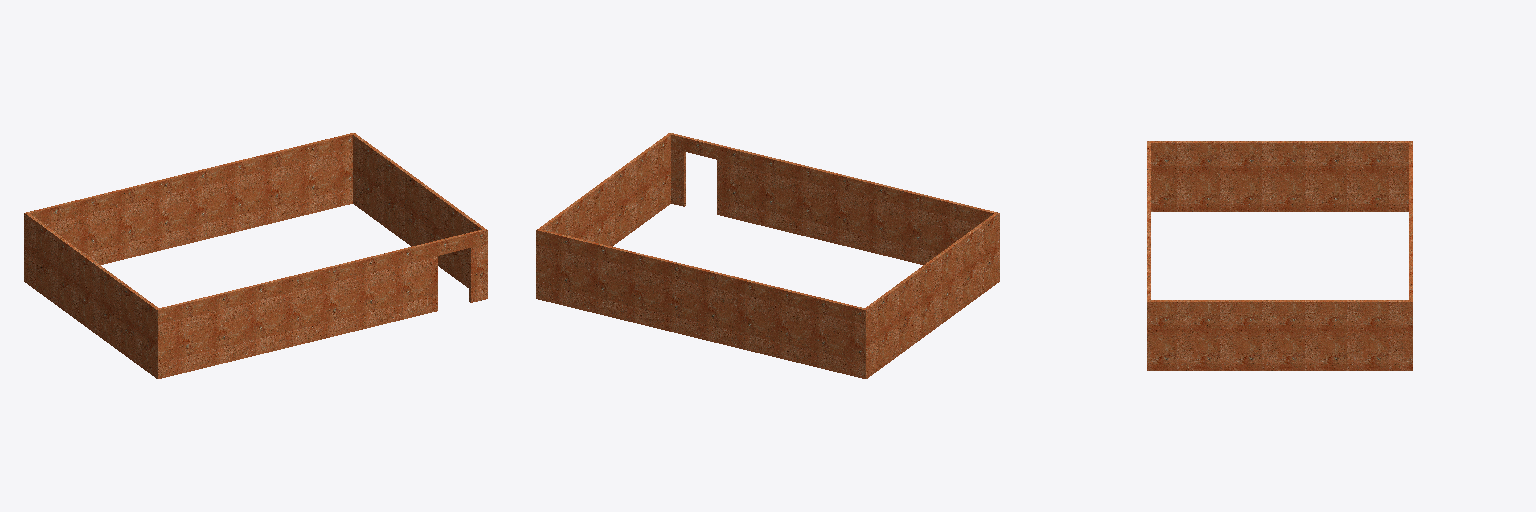
The picture shows the model from 3 angles: view 1: azimuth 30°, elevation 25°; view 2: azimuth 150°, elevation 25°; view 3: azimuth 270°, elevation 25°; orthographic projection.
Parts seen in each view (by area): view 1: |old_english_brick_2d; view 2: |old_english_brick_2d; view 3: |old_english_brick_2d.
Part boxes in pixels (left/top/right/bottom): |old_english_brick_2d: left=24, top=133, right=487, bottom=378; |old_english_brick_2d: left=536, top=133, right=999, bottom=378; |old_english_brick_2d: left=1147, top=141, right=1412, bottom=370.
Bounding box in the file's own units: 1 × 0.2 × 0.7.
1 materials, 1 textured.